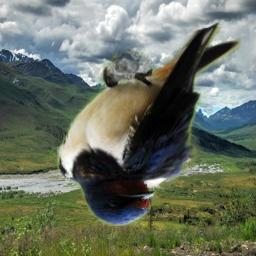Swallow: (56, 19, 241, 226)
